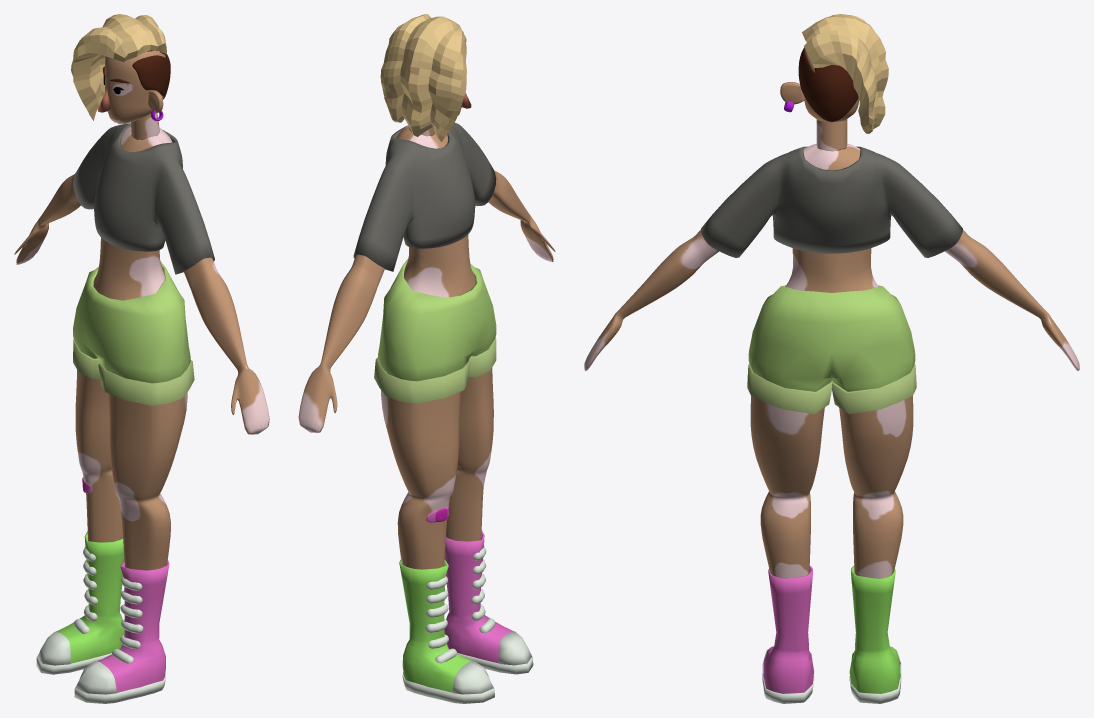
The model's file is Clara-cororida.fbx.
3 views of the same model, side by side, from view 1: azimuth 30°, elevation 25°; view 2: azimuth 150°, elevation 25°; view 3: azimuth 270°, elevation 25° (orthographic). The views are drawn at different scales.
Parts seen in each view (by area): view 1: Top; view 2: Top; view 3: Top.
Boxes of the visible parts, box(x1,y1,x2,y2) form: Top: box(14, 14, 269, 703); Top: box(298, 14, 555, 703); Top: box(584, 14, 1079, 703).
Size of the model in its own units: 169 by 883 by 582.
Materials: 16 (2 with a texture image).
